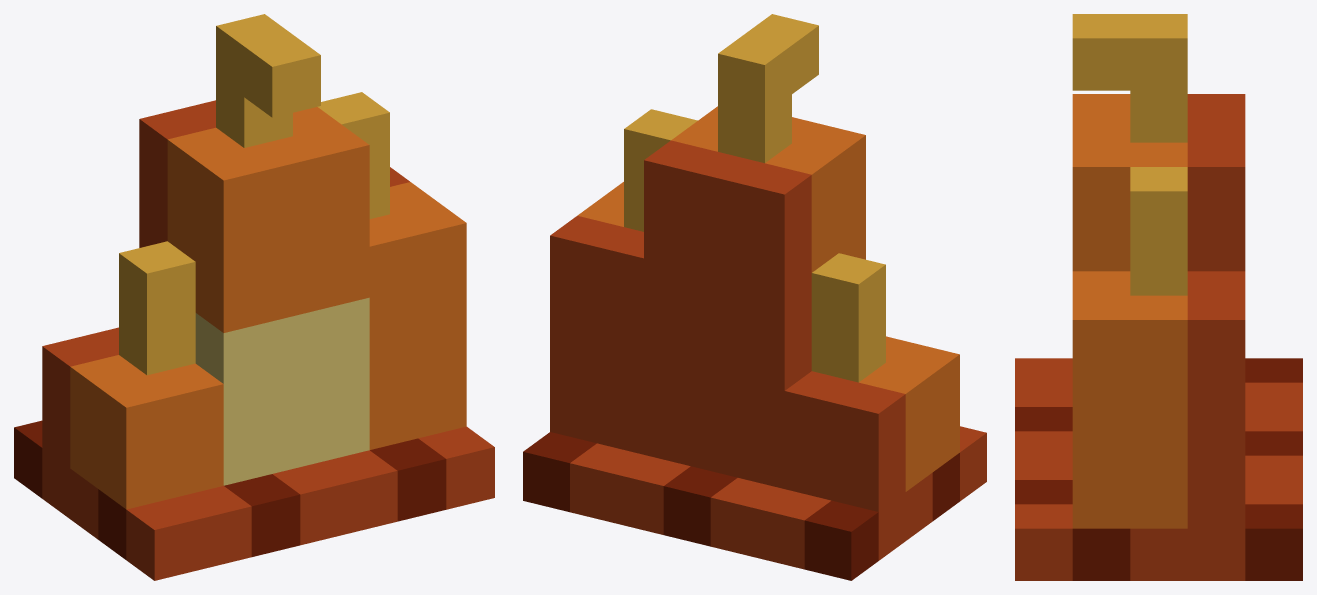
Rendered from flame_06.glb.
3 renders of one model, left to right at view 1: azimuth 30°, elevation 25°; view 2: azimuth 150°, elevation 25°; view 3: azimuth 270°, elevation 25°, orthographic. The views are drawn at different scales.
Visible parts, largest first — view 1: flame_06; view 2: flame_06; view 3: flame_06.
Part boxes in pixels (x1,y1,x2,y2): flame_06: (14, 14, 494, 580); flame_06: (523, 14, 986, 580); flame_06: (1015, 14, 1302, 580).
Size of the model in its own units: 0.875 by 1.12 by 0.625.
